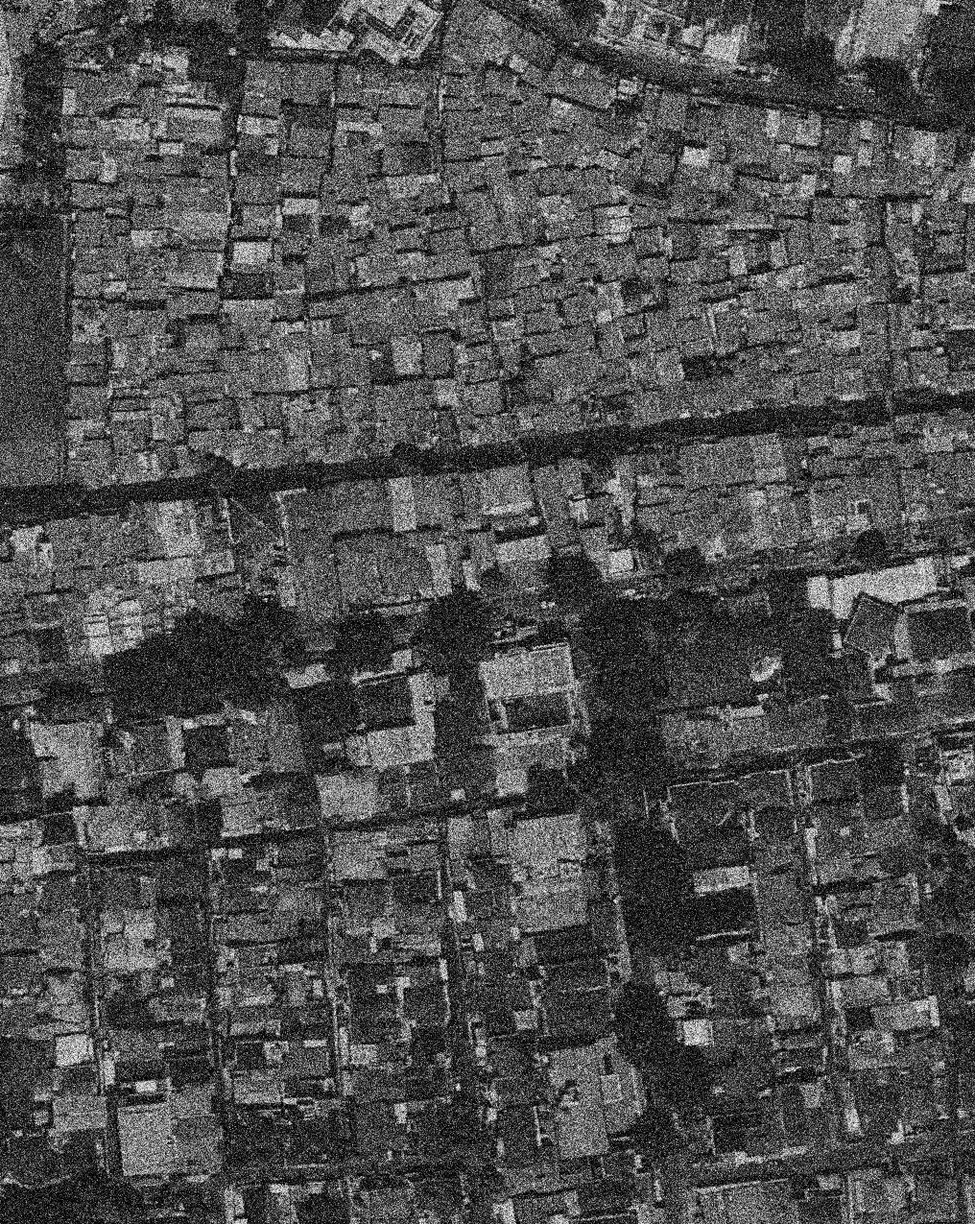building: (0, 475, 288, 679), (38, 492, 237, 602), (333, 814, 461, 967), (0, 226, 65, 486), (68, 365, 185, 481), (98, 922, 213, 1028), (655, 617, 786, 710), (589, 0, 753, 69), (435, 0, 563, 88), (266, 0, 442, 64), (266, 488, 344, 624), (805, 555, 941, 624), (332, 526, 448, 602), (534, 96, 639, 179), (350, 673, 438, 770), (542, 1041, 611, 1160), (305, 282, 419, 354), (692, 930, 775, 1027), (277, 474, 393, 543), (520, 42, 622, 118), (214, 772, 324, 840), (447, 858, 520, 955), (702, 1087, 789, 1168), (425, 662, 494, 759), (655, 698, 740, 776), (487, 723, 577, 796), (478, 639, 576, 703), (142, 493, 233, 561), (31, 719, 103, 804), (663, 776, 749, 847), (76, 584, 148, 659), (505, 810, 588, 873), (341, 963, 403, 1047), (836, 590, 906, 663), (290, 680, 365, 747), (776, 605, 841, 682), (370, 378, 436, 453), (513, 872, 590, 935), (361, 711, 440, 772), (370, 528, 436, 601), (676, 435, 757, 494), (493, 1101, 559, 1173), (306, 314, 370, 388), (762, 952, 821, 1032), (371, 758, 446, 820), (345, 221, 408, 294), (531, 459, 583, 547), (115, 1102, 175, 1178), (479, 1048, 548, 1114), (849, 0, 925, 59), (405, 524, 467, 596), (700, 1179, 799, 1224), (488, 173, 546, 248), (279, 1001, 334, 1080), (685, 885, 760, 942), (0, 725, 45, 819), (163, 176, 229, 240), (434, 746, 504, 806), (540, 988, 614, 1042), (904, 604, 974, 661), (282, 1103, 346, 1165), (453, 184, 508, 255), (99, 907, 159, 972), (254, 489, 298, 577), (489, 690, 574, 735), (213, 847, 270, 914), (314, 766, 383, 821), (515, 923, 599, 968), (704, 1044, 774, 1097), (847, 1072, 903, 1138), (348, 1099, 409, 1157), (319, 142, 373, 204), (352, 674, 414, 728), (696, 1011, 773, 1054), (180, 722, 235, 782), (171, 1114, 225, 1175), (225, 491, 283, 547), (239, 58, 294, 117), (404, 1097, 457, 1158), (921, 268, 974, 328), (921, 267, 974, 326), (611, 160, 673, 210), (930, 0, 974, 70), (851, 697, 921, 741), (41, 514, 95, 571), (905, 125, 953, 188), (105, 137, 162, 189), (864, 455, 904, 529), (732, 228, 790, 279), (366, 331, 425, 381), (671, 142, 726, 195), (410, 277, 466, 329), (5, 1134, 57, 1190), (268, 868, 327, 917), (895, 1065, 941, 1126), (916, 408, 975, 455), (802, 755, 861, 802), (478, 461, 534, 510), (541, 956, 610, 995), (827, 972, 896, 1011), (44, 970, 86, 1034), (891, 1028, 947, 1076), (331, 581, 412, 614), (889, 346, 951, 389), (854, 742, 907, 792), (753, 0, 807, 49), (257, 720, 305, 775), (412, 474, 458, 531), (442, 809, 492, 861), (696, 939, 751, 986), (572, 1175, 635, 1216), (249, 350, 309, 393), (738, 767, 794, 813), (404, 247, 473, 284), (497, 1159, 562, 1198), (48, 1093, 108, 1135), (509, 85, 553, 142), (149, 855, 206, 899), (850, 1169, 907, 1213), (54, 1129, 104, 1179), (412, 1174, 466, 1220), (803, 474, 852, 524), (84, 801, 133, 851), (773, 1026, 827, 1071), (108, 447, 167, 488), (241, 320, 310, 355), (293, 1181, 349, 1224), (769, 491, 818, 540), (487, 1029, 535, 1079), (360, 1182, 417, 1224), (637, 86, 689, 132), (128, 720, 172, 774), (150, 990, 209, 1030), (87, 510, 129, 566), (608, 142, 654, 193), (689, 860, 752, 897), (498, 555, 552, 598), (468, 977, 532, 1013), (277, 961, 327, 1007), (592, 278, 643, 323), (349, 1064, 406, 1104), (776, 1084, 811, 1149), (440, 56, 482, 110), (805, 247, 868, 283), (748, 431, 789, 486), (877, 935, 930, 977), (166, 107, 226, 144), (860, 813, 914, 854), (686, 0, 753, 33), (0, 1043, 48, 1089), (0, 893, 38, 951), (383, 474, 420, 533), (881, 199, 921, 253), (332, 840, 386, 880), (725, 349, 769, 398), (62, 70, 108, 116), (913, 1176, 957, 1224), (727, 190, 776, 233), (886, 995, 940, 1034), (230, 1067, 281, 1108), (840, 647, 878, 702), (477, 247, 517, 299), (191, 582, 244, 621), (403, 760, 442, 812), (864, 844, 916, 883), (375, 69, 432, 104), (315, 176, 359, 221), (622, 515, 666, 560), (492, 533, 552, 566), (35, 906, 81, 949), (746, 840, 799, 877), (748, 806, 797, 846), (858, 784, 908, 823), (153, 902, 204, 940), (278, 155, 325, 196), (229, 944, 276, 985), (791, 698, 828, 750), (133, 555, 195, 586), (218, 347, 254, 400), (229, 1036, 282, 1072), (512, 1190, 568, 1224), (159, 931, 209, 969), (279, 1040, 329, 1078), (761, 922, 811, 960), (683, 98, 726, 142), (291, 61, 334, 105), (66, 384, 108, 429), (224, 909, 275, 946), (98, 868, 141, 911), (442, 154, 486, 196), (403, 985, 448, 1026), (887, 243, 923, 294), (167, 1083, 216, 1120), (166, 1051, 215, 1088), (768, 983, 817, 1020), (591, 203, 634, 245), (103, 996, 156, 1030), (708, 435, 753, 475), (464, 887, 514, 923), (720, 102, 766, 141), (465, 746, 500, 797), (227, 1005, 281, 1038), (269, 834, 321, 868), (286, 776, 320, 828), (284, 123, 331, 160), (757, 895, 804, 932), (107, 1029, 163, 1060), (684, 376, 732, 412), (765, 702, 801, 750), (68, 422, 111, 462), (21, 591, 65, 630), (159, 1021, 211, 1054), (856, 250, 889, 301), (811, 854, 862, 887), (809, 799, 860, 832), (949, 1008, 974, 1075), (272, 934, 326, 965), (337, 934, 391, 965), (369, 380, 407, 424), (388, 332, 425, 377), (50, 1031, 95, 1068), (454, 471, 486, 523), (763, 954, 813, 987), (597, 242, 639, 281), (728, 714, 771, 752), (753, 868, 801, 902), (845, 1040, 896, 1072), (642, 307, 679, 351), (40, 939, 85, 975), (887, 676, 923, 721), (282, 404, 331, 437), (396, 957, 445, 990), (927, 465, 959, 515), (31, 626, 71, 666), (654, 380, 693, 421), (468, 411, 515, 445), (281, 102, 336, 131), (652, 89, 689, 132), (827, 914, 870, 951), (213, 884, 266, 914), (405, 1064, 449, 1100), (467, 857, 512, 892), (828, 942, 877, 974), (61, 116, 113, 146), (624, 388, 664, 427), (945, 670, 975, 722), (464, 380, 505, 418), (150, 967, 205, 995), (109, 335, 157, 367), (622, 351, 661, 390), (396, 374, 436, 412), (70, 301, 107, 342), (110, 418, 152, 454), (0, 952, 42, 988), (367, 174, 419, 203), (433, 405, 465, 452), (813, 828, 863, 858), (779, 432, 810, 480), (113, 1057, 166, 1085), (239, 1122, 290, 1151), (334, 346, 370, 387), (78, 453, 119, 489), (532, 351, 574, 386), (38, 876, 80, 911), (473, 950, 515, 985), (591, 368, 634, 402), (187, 57, 239, 85), (825, 885, 875, 914), (639, 146, 676, 185), (594, 392, 634, 428), (442, 301, 487, 333), (0, 1002, 40, 1038), (198, 765, 243, 797), (897, 466, 931, 508), (780, 221, 813, 264), (508, 376, 552, 408), (572, 493, 616, 525), (192, 798, 224, 842), (242, 1188, 281, 1224), (219, 800, 258, 836), (534, 131, 574, 166), (829, 218, 869, 253), (182, 370, 224, 403), (165, 803, 198, 845), (869, 906, 915, 936), (0, 12, 12, 127), (168, 290, 219, 317), (233, 150, 282, 178), (707, 160, 744, 197), (530, 169, 587, 193), (892, 969, 931, 1004), (455, 356, 499, 387), (921, 239, 962, 272), (0, 1088, 33, 1129), (405, 1025, 446, 1058), (225, 983, 277, 1009), (377, 105, 425, 133), (184, 399, 230, 428), (229, 240, 272, 271), (556, 292, 594, 327), (629, 222, 667, 257), (40, 812, 78, 847), (146, 387, 185, 421), (422, 331, 452, 375), (318, 535, 351, 575), (220, 273, 272, 298), (232, 176, 280, 203), (743, 310, 779, 346), (272, 227, 310, 261), (369, 485, 399, 528), (872, 877, 915, 907), (595, 320, 627, 360), (191, 549, 235, 578), (137, 588, 188, 613), (295, 1200, 348, 1224), (794, 371, 829, 407), (179, 318, 221, 348), (803, 448, 839, 483), (576, 521, 612, 556), (673, 312, 711, 345), (531, 165, 570, 197), (68, 181, 111, 210), (524, 328, 567, 357), (701, 32, 741, 63), (798, 1076, 833, 1111), (104, 64, 138, 100), (535, 190, 569, 226), (667, 221, 699, 259), (942, 745, 974, 783), (58, 1065, 98, 1095), (576, 69, 610, 104), (573, 236, 606, 272), (798, 1197, 842, 1224), (793, 111, 825, 148), (494, 337, 526, 374), (465, 529, 497, 566), (828, 430, 866, 461), (305, 236, 347, 264), (426, 226, 468, 254), (669, 521, 708, 551), (443, 111, 486, 138), (795, 306, 822, 349), (571, 352, 603, 388), (233, 131, 279, 156), (860, 198, 885, 244), (334, 881, 362, 922), (925, 131, 956, 168), (479, 1008, 516, 1039), (728, 140, 772, 166), (481, 67, 519, 97), (164, 269, 218, 290), (334, 110, 381, 134), (72, 211, 105, 245), (754, 274, 788, 307), (735, 106, 767, 141), (562, 322, 597, 354), (668, 187, 703, 219), (694, 220, 730, 251), (109, 116, 150, 143), (605, 456, 634, 494), (299, 738, 328, 776), (235, 113, 279, 138), (196, 147, 229, 180), (65, 149, 99, 181), (735, 173, 782, 196), (771, 110, 801, 146), (160, 48, 190, 84), (283, 350, 309, 391), (821, 115, 849, 153), (416, 176, 449, 208), (423, 204, 462, 231), (171, 447, 206, 477), (910, 130, 938, 167), (764, 195, 809, 218), (405, 408, 432, 446), (479, 153, 510, 186), (532, 403, 565, 434), (324, 431, 357, 462), (511, 284, 545, 314), (736, 379, 770, 409), (431, 375, 461, 409), (559, 1158, 593, 1188), (843, 1006, 877, 1036), (855, 118, 890, 147), (664, 281, 703, 307), (127, 310, 166, 336), (888, 123, 915, 160), (333, 62, 365, 93), (636, 277, 668, 308), (697, 252, 729, 283), (857, 330, 888, 362), (770, 371, 799, 405), (785, 347, 820, 375), (235, 203, 277, 226), (127, 248, 164, 274), (565, 208, 596, 239), (504, 376, 533, 409), (647, 127, 680, 156), (602, 1152, 636, 1180), (139, 83, 164, 121), (823, 281, 858, 308), (536, 240, 567, 270), (504, 142, 533, 174), (615, 311, 647, 340), (58, 590, 87, 622), (145, 375, 183, 399), (886, 158, 912, 193), (187, 249, 223, 274), (766, 142, 795, 173), (931, 172, 962, 201), (841, 474, 872, 503), (818, 310, 857, 333), (67, 342, 106, 365), (223, 442, 255, 470), (637, 254, 670, 281), (69, 270, 102, 297), (682, 356, 719, 380), (807, 1107, 831, 1144), (343, 919, 395, 936), (811, 196, 846, 221), (862, 436, 897, 461), (443, 137, 481, 160), (888, 350, 911, 388), (634, 484, 672, 507), (832, 368, 863, 396), (854, 304, 885, 332), (717, 492, 753, 516), (288, 1182, 329, 1203), (489, 316, 522, 342), (509, 244, 542, 270), (855, 422, 894, 444), (636, 504, 670, 529), (105, 1005, 134, 1034), (945, 329, 974, 358), (521, 308, 552, 335), (127, 288, 165, 310), (668, 258, 700, 284), (922, 200, 963, 220), (955, 1072, 974, 1115), (256, 394, 280, 428), (630, 204, 667, 226), (773, 305, 801, 334), (271, 911, 300, 939), (512, 403, 539, 433), (820, 458, 865, 476), (947, 783, 974, 813), (98, 274, 129, 300), (679, 337, 714, 360), (103, 246, 128, 278), (628, 450, 660, 475), (598, 1073, 623, 1105), (308, 316, 346, 337), (724, 244, 748, 277), (70, 246, 103, 270), (677, 24, 706, 51), (406, 145, 433, 174), (379, 145, 406, 174), (606, 547, 635, 574), (622, 333, 652, 359), (66, 364, 105, 384), (953, 130, 974, 167), (105, 302, 127, 337), (481, 94, 513, 118), (678, 144, 710, 168), (369, 198, 402, 221), (398, 933, 440, 951), (887, 303, 916, 329), (395, 248, 427, 271), (712, 332, 744, 355), (862, 364, 889, 391), (186, 430, 219, 452), (749, 506, 771, 539), (542, 218, 571, 243), (439, 55, 469, 79), (699, 280, 735, 300), (581, 167, 612, 190), (436, 280, 459, 311), (482, 114, 514, 136), (139, 609, 166, 635), (129, 228, 165, 247), (284, 436, 310, 462), (701, 195, 728, 220), (262, 438, 286, 466), (463, 341, 493, 363), (759, 345, 785, 370), (896, 440, 919, 468), (510, 266, 540, 287), (218, 350, 248, 371), (828, 151, 853, 176), (654, 344, 682, 366), (762, 107, 781, 139), (643, 0, 686, 14), (657, 362, 683, 385), (602, 357, 629, 379), (597, 341, 628, 360), (828, 329, 859, 348), (282, 197, 318, 213), (950, 367, 974, 391), (804, 432, 831, 453), (178, 347, 218, 361), (740, 290, 769, 309), (487, 297, 513, 318), (111, 398, 150, 412), (844, 121, 860, 155), (129, 190, 161, 207), (709, 297, 739, 315), (689, 489, 716, 509), (110, 340, 129, 368), (793, 149, 822, 167), (443, 96, 479, 110), (480, 137, 508, 155), (551, 278, 578, 296), (156, 139, 184, 156), (310, 349, 335, 368), (370, 919, 396, 937), (960, 961, 974, 994), (807, 220, 830, 240), (528, 0, 562, 13), (907, 330, 933, 347), (932, 232, 954, 252), (863, 176, 886, 195), (888, 329, 909, 349), (349, 203, 368, 224), (106, 217, 129, 234), (808, 288, 827, 308), (378, 1047, 399, 1065), (852, 169, 867, 194), (110, 335, 140, 347), (799, 174, 816, 195), (834, 355, 861, 368), (551, 389, 574, 404), (68, 299, 78, 329), (227, 299, 273, 305), (238, 709, 255, 725), (594, 309, 612, 324), (284, 584, 296, 605), (278, 700, 292, 718), (348, 517, 365, 529), (154, 460, 169, 473), (722, 108, 730, 128), (453, 866, 465, 878), (165, 251, 173, 265), (282, 383, 299, 389)
tree: (591, 705, 687, 805), (101, 632, 200, 725), (317, 607, 408, 699), (404, 593, 498, 677), (161, 600, 252, 686), (536, 547, 622, 634), (605, 998, 691, 1084), (647, 1046, 725, 1124), (575, 620, 659, 685), (614, 831, 686, 905), (231, 595, 300, 671), (620, 1107, 690, 1178), (438, 1088, 496, 1161), (623, 901, 692, 959), (764, 45, 843, 95), (4, 478, 91, 522), (593, 669, 658, 727), (678, 825, 749, 878), (571, 754, 637, 810), (0, 1186, 97, 1222), (229, 0, 286, 61), (229, 657, 289, 713), (159, 1176, 225, 1224), (621, 600, 680, 650), (929, 865, 975, 929), (36, 686, 99, 730), (931, 70, 974, 134), (868, 65, 920, 116), (140, 1, 187, 56), (918, 815, 969, 865), (660, 542, 710, 592), (19, 40, 69, 90), (21, 89, 54, 163), (522, 764, 569, 812), (199, 447, 245, 496), (846, 527, 891, 576), (69, 1169, 117, 1214), (185, 21, 233, 63), (386, 436, 430, 481), (772, 569, 810, 613), (475, 1161, 511, 1207), (112, 25, 153, 65), (936, 936, 969, 980), (132, 771, 169, 806), (108, 1192, 148, 1224), (93, 0, 130, 32), (229, 1153, 279, 1175), (586, 454, 619, 487), (650, 423, 681, 455), (13, 160, 47, 188), (563, 4, 598, 30), (43, 148, 65, 189), (581, 850, 612, 879), (902, 386, 936, 410), (324, 1152, 364, 1172), (443, 1019, 466, 1053), (357, 52, 390, 75), (482, 567, 507, 597), (827, 392, 855, 418), (922, 851, 948, 877), (108, 1085, 131, 1109), (285, 656, 308, 677), (863, 1130, 887, 1149), (733, 750, 753, 771), (727, 811, 746, 833), (0, 704, 16, 722), (519, 363, 535, 381)
